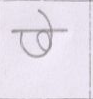e_matra: (38, 9, 56, 28)
